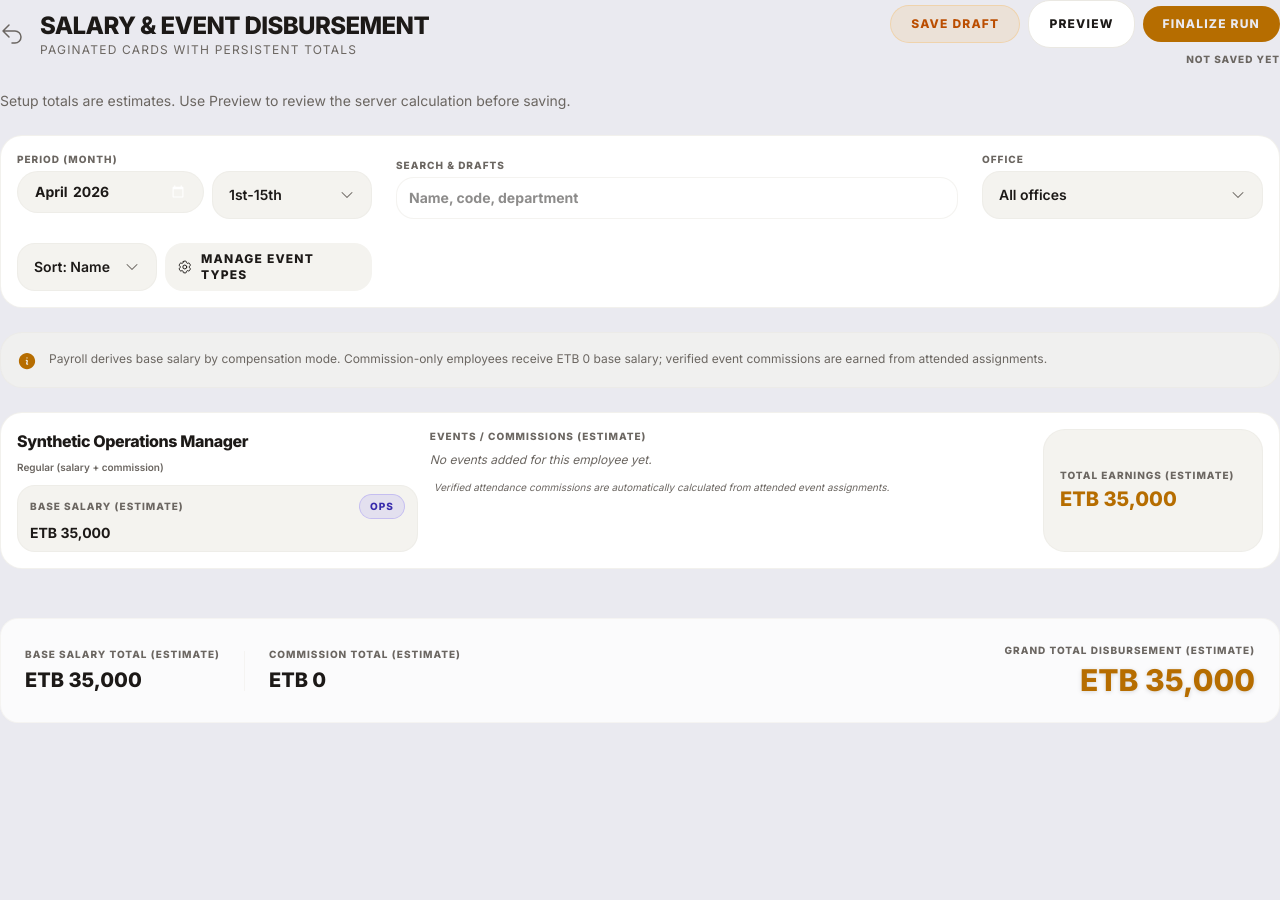
Test case: payroll response ownership › reports an offline submission immediately and does not replay it when reconnected
The image size is (1280, 900).
Click the button "Save Draft": (955, 24) [890, 5, 1020, 43]
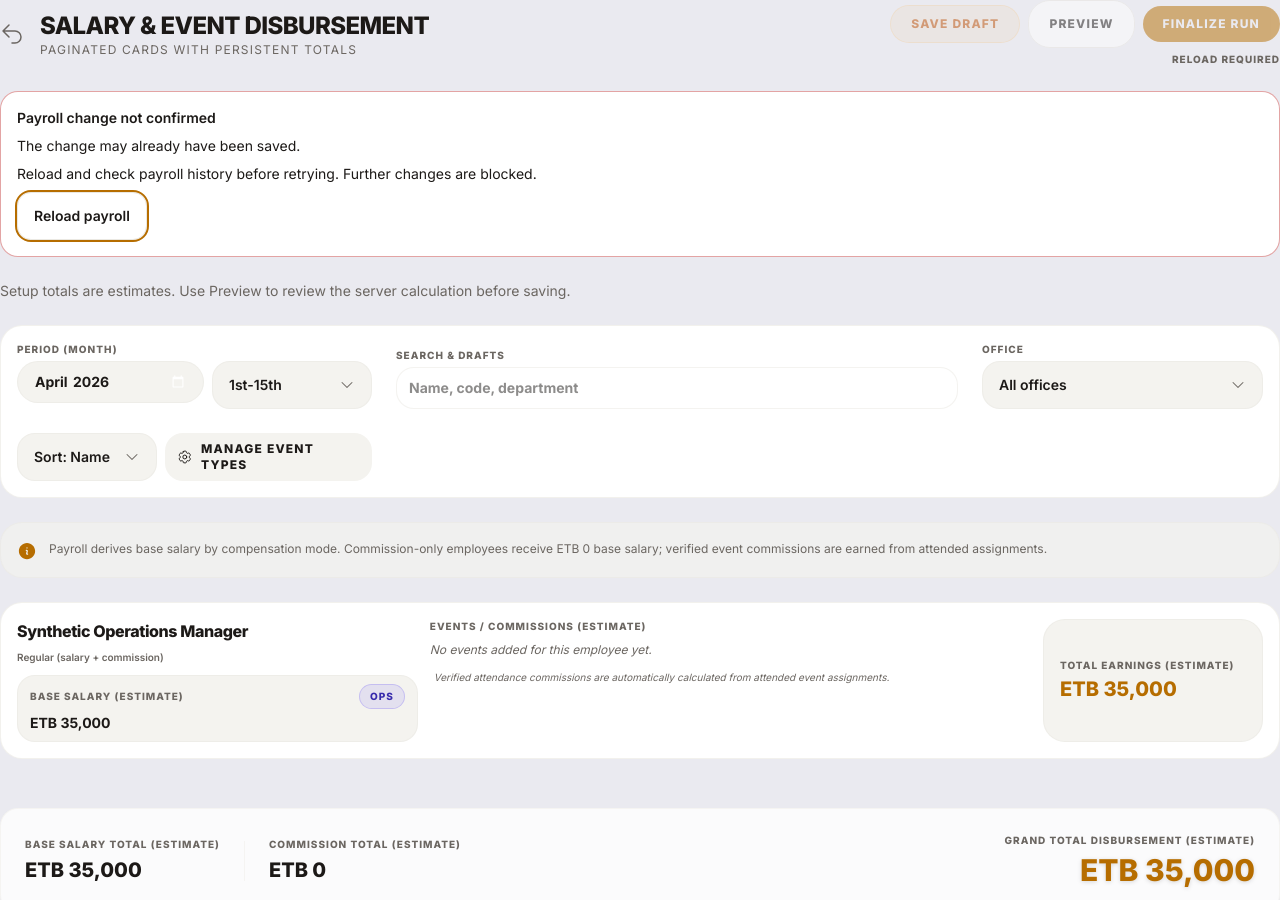
Expected: the message shows "Payroll change not confirmed", [17, 109, 216, 126]
Expected: the button "Save Draft" is disabled, [890, 5, 1020, 43]
